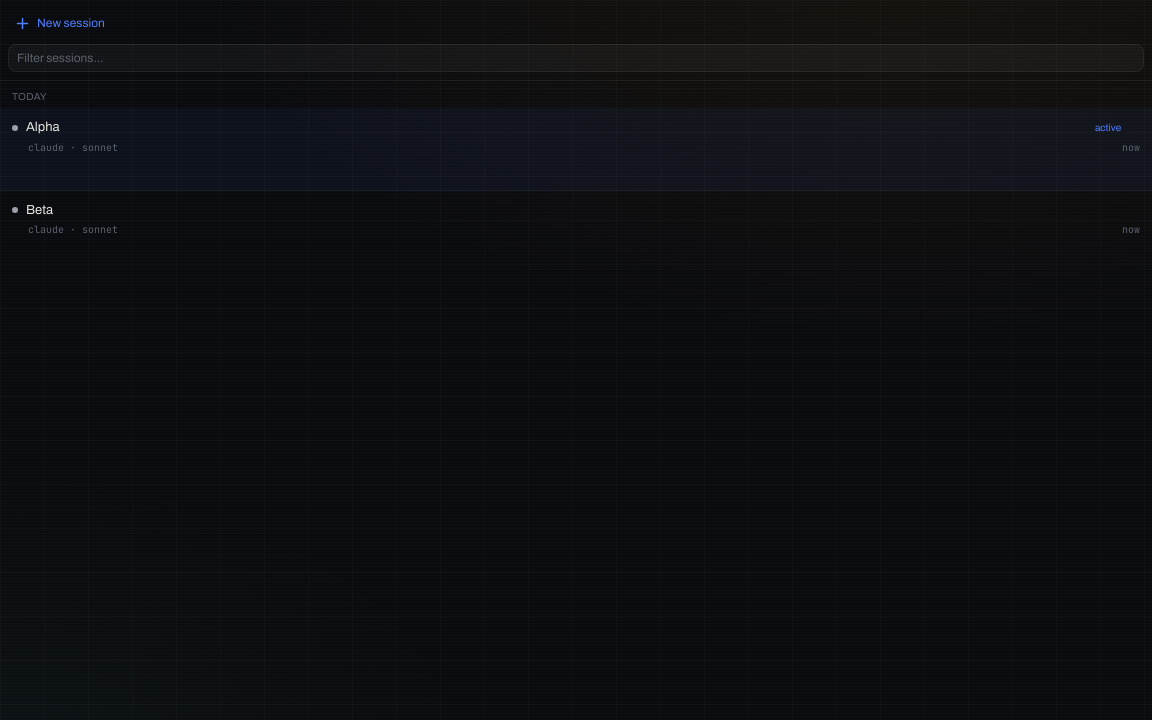
Test: ChatSessionList — filter / pin / duplicate › filters sessions by title (case-insensitive)
Expected: the number of options is 2, x1=0 y1=108 x2=1151 y2=190; x1=12 y1=202 x2=1140 y2=236
Type "be" into the field with placeholder "Filter sessions…" at (576, 58), box x1=8 y1=44 x2=1144 y2=72
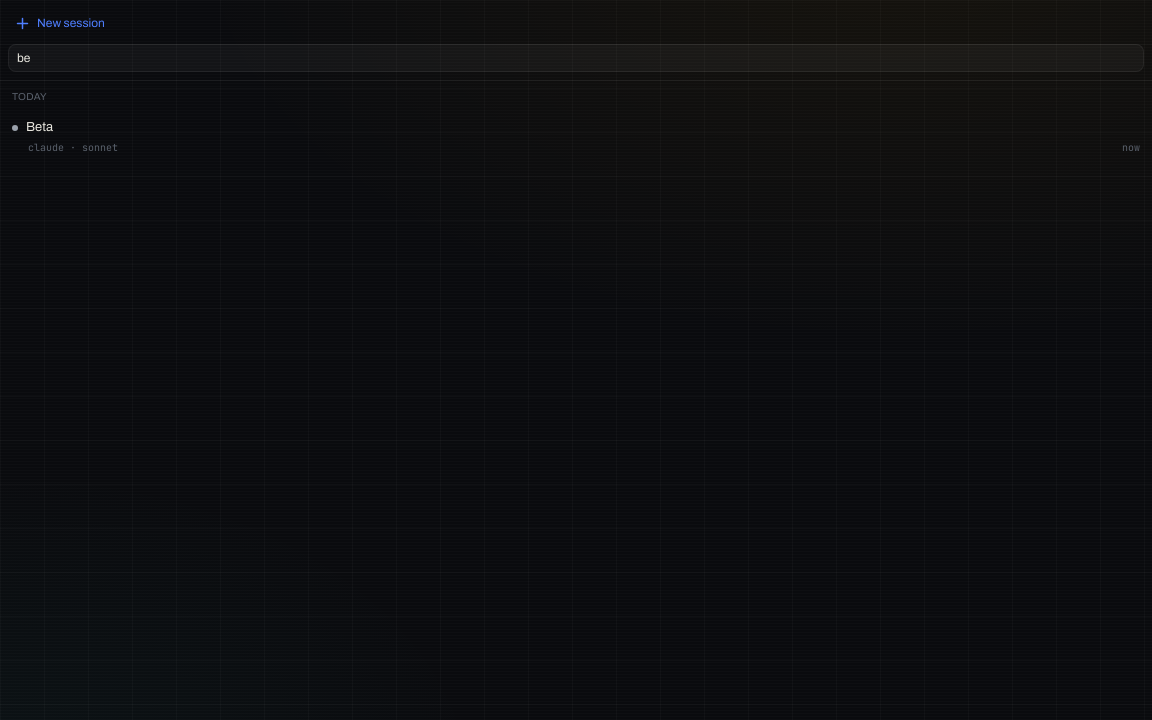
Expected: the text "Beta" is shown, x1=26 y1=120 x2=53 y2=134
Expected: the number of options is 1, x1=12 y1=120 x2=1140 y2=154
